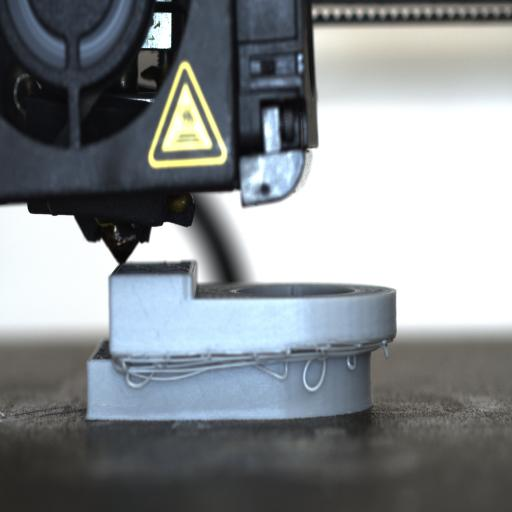layer_shift: (82, 336, 397, 369)
